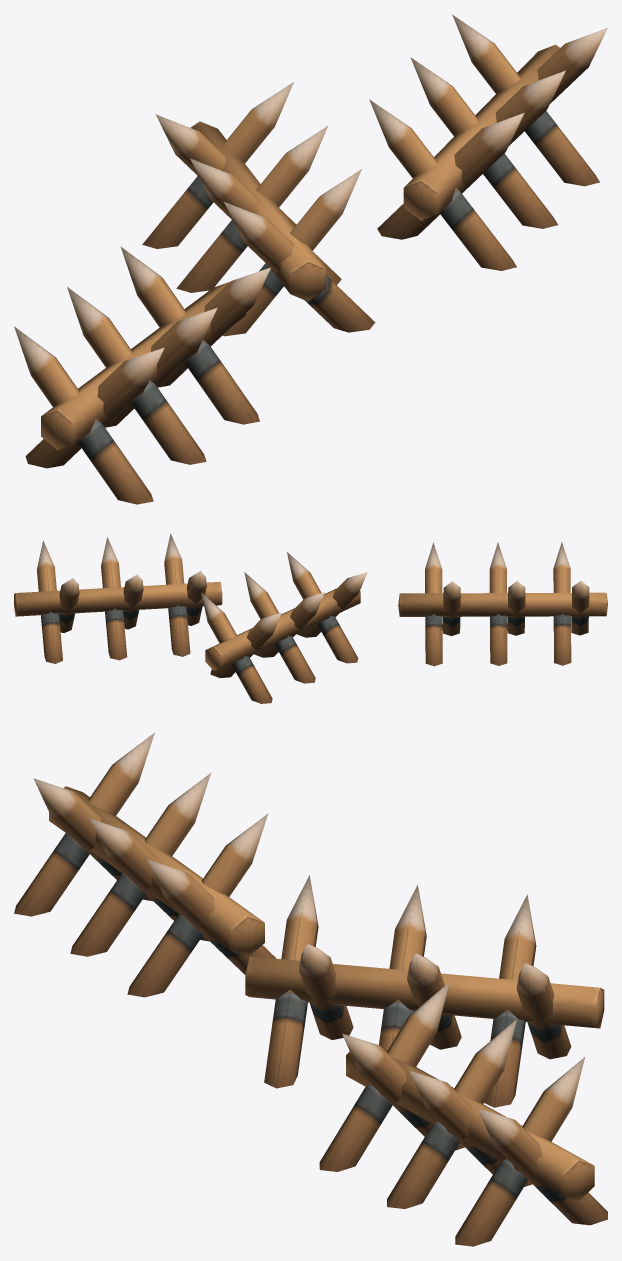
File: area_03_21.fbx
3 views of the same model, one above another, from view 1: azimuth 30°, elevation 25°; view 2: azimuth 150°, elevation 25°; view 3: azimuth 270°, elevation 25° (orthographic). The views are drawn at different scales.
Visible parts, largest first — view 1: area_03_21; view 2: area_03_21; view 3: area_03_21.
Part boxes in pixels (x1,y1,x2,y2): area_03_21: [14, 14, 607, 504]; area_03_21: [14, 533, 607, 703]; area_03_21: [14, 732, 607, 1246].
Bounding box in the file's own units: 13.32 × 2.36 × 8.72.
